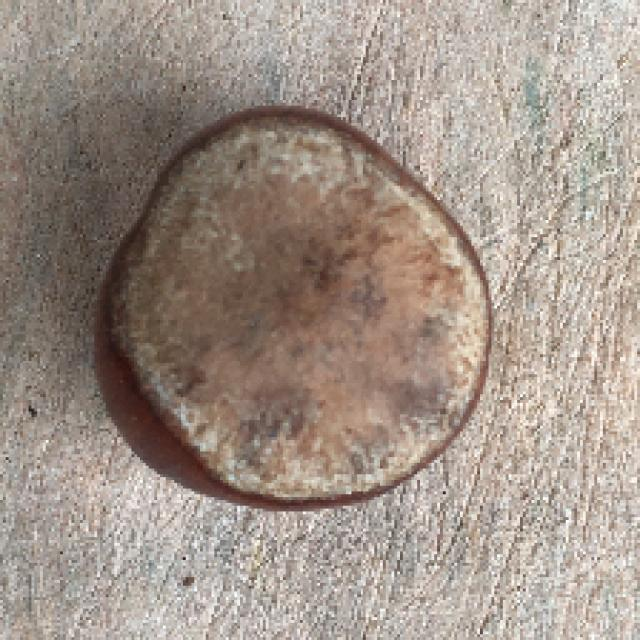qualityHazelnut: (86, 100, 500, 511)
